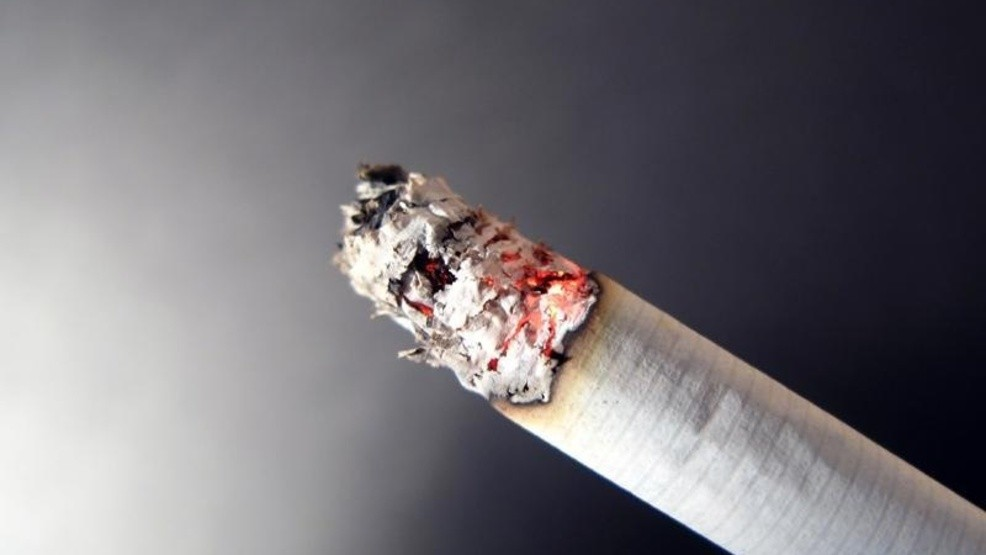cigarette: (326, 151, 982, 555)
